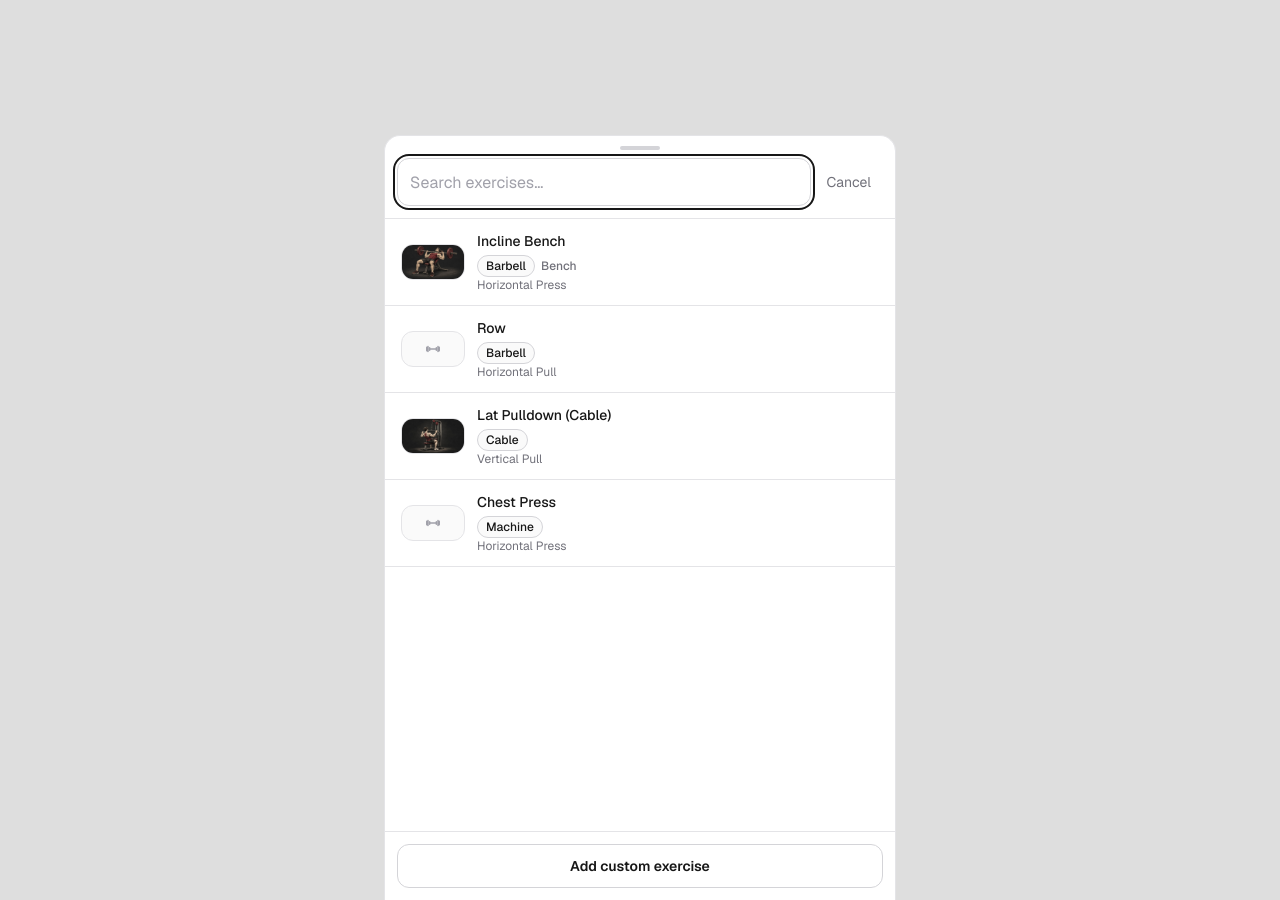
Test: ExercisePicker station forms › opens brand + type for machines and keeps the plate/stack control
The image size is (1280, 900).
Click the button "Chest Press Machine horizontal press" at [433, 523], box [385,480,895,567]
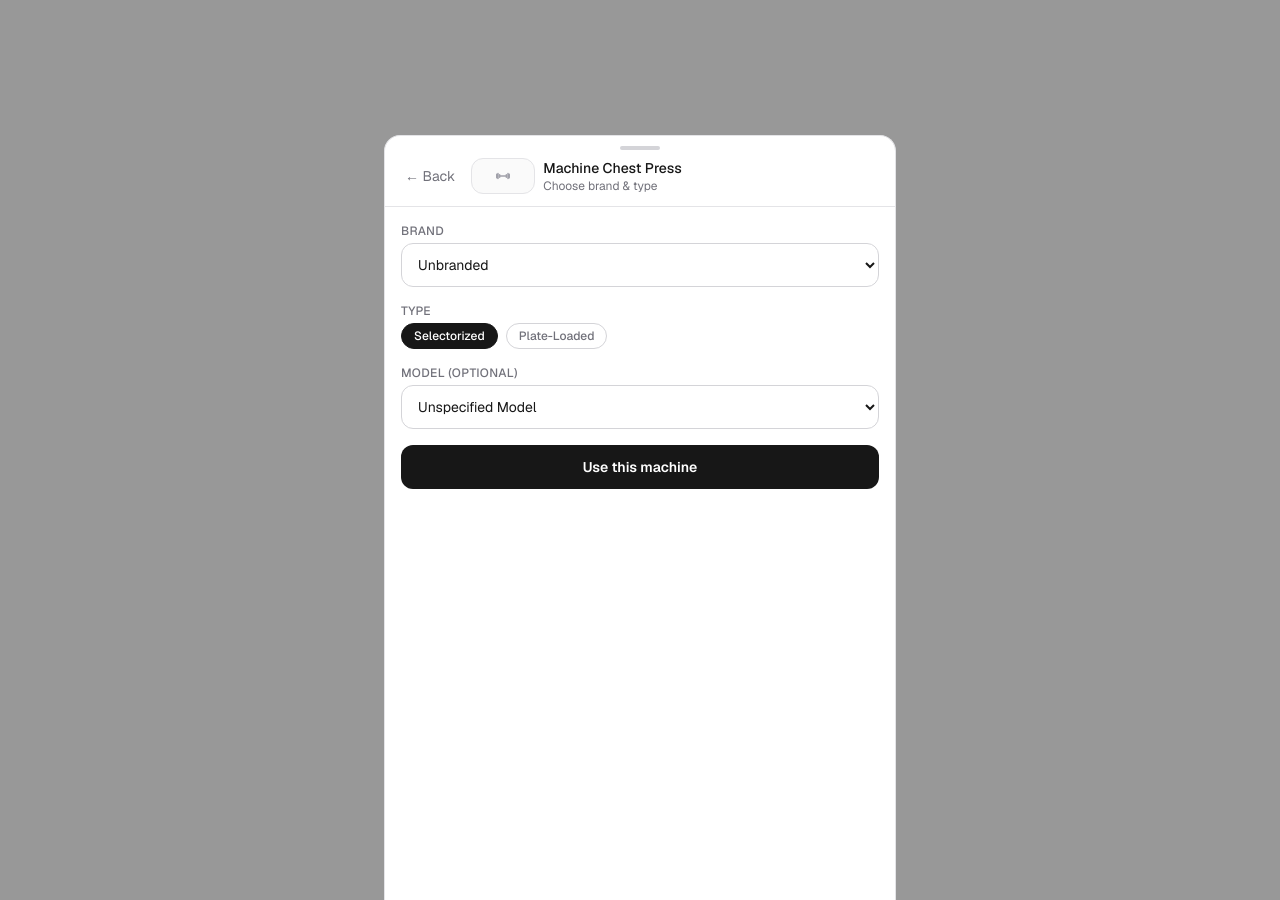
Result: the text "Choose brand & type" is shown at [543,178,658,194]
Result: the text "Selectorized" is shown at [401,323,498,349]
Result: the text "Plate-loaded" is shown at [506,323,607,349]
